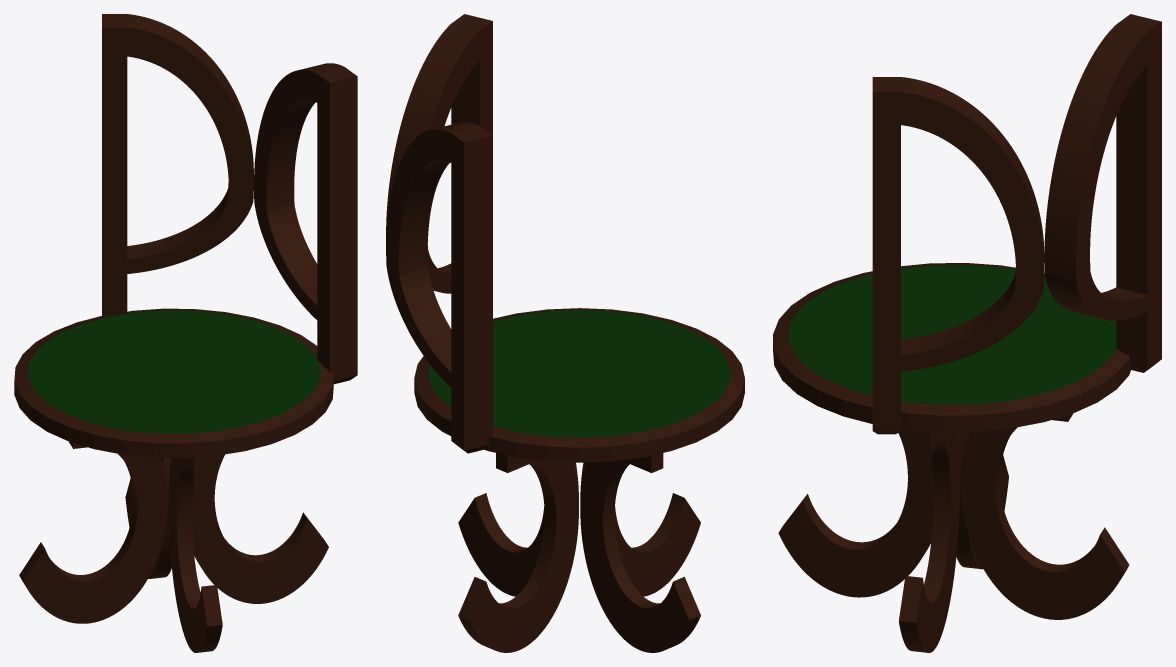
The model's file is Chair.fbx.
The picture shows the model from 3 angles, left to right: view 1: azimuth 30°, elevation 25°; view 2: azimuth 150°, elevation 25°; view 3: azimuth 270°, elevation 25°; orthographic projection. The views are drawn at different scales.
Parts seen in each view (by area): view 1: Chair1; view 2: Chair1; view 3: Chair1.
Boxes of the visible parts, x1,y1,x2,y2 form: Chair1: [14, 14, 357, 652]; Chair1: [386, 14, 744, 652]; Chair1: [773, 14, 1161, 652].
Size of the model in its own units: 1031 by 1807 by 1073.
